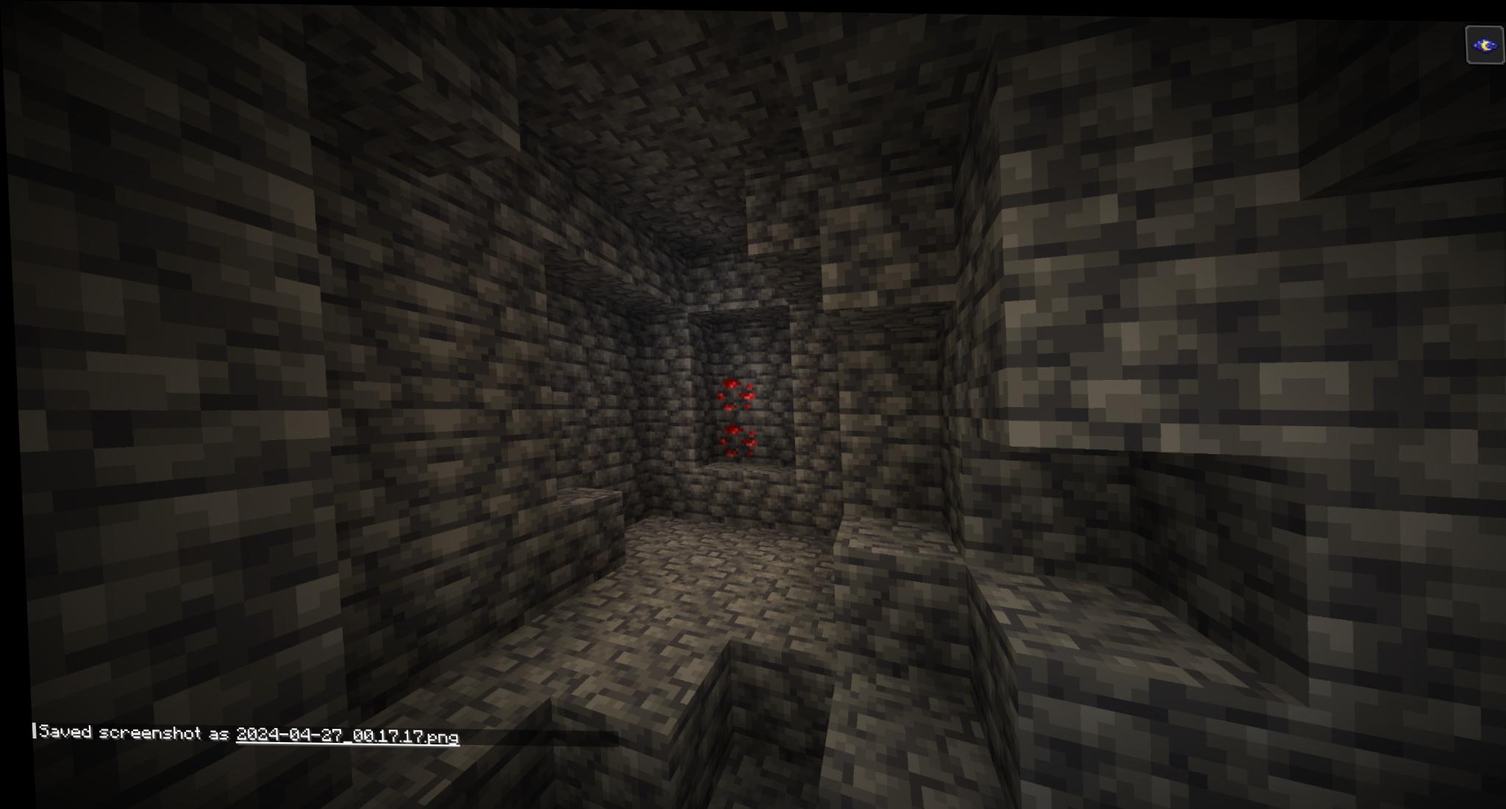redstone ore: (707, 416, 757, 462), (709, 374, 758, 416)
